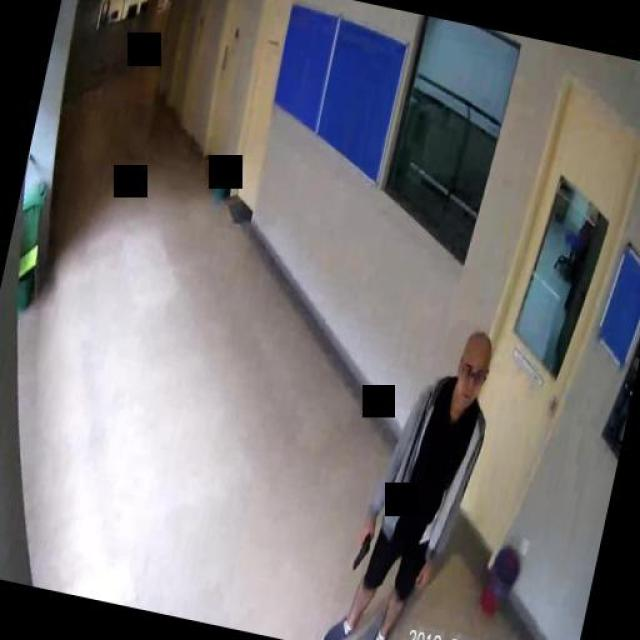gun: (352, 526, 372, 570)
